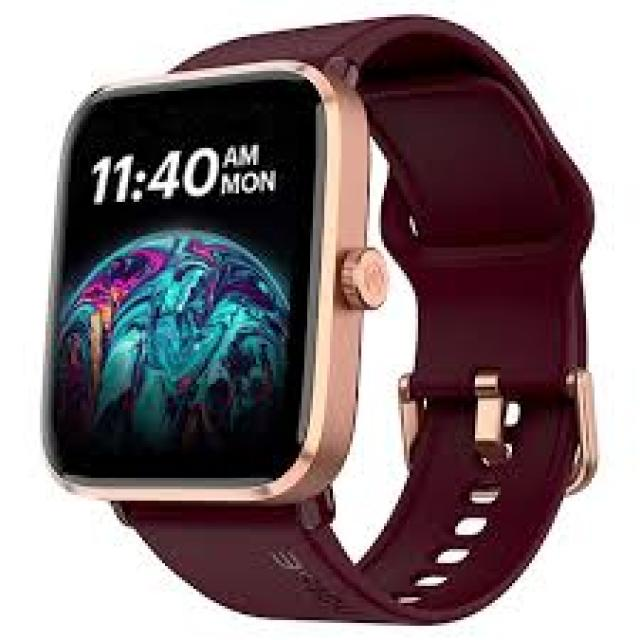objects: (48, 17, 594, 620), (48, 63, 388, 501)
